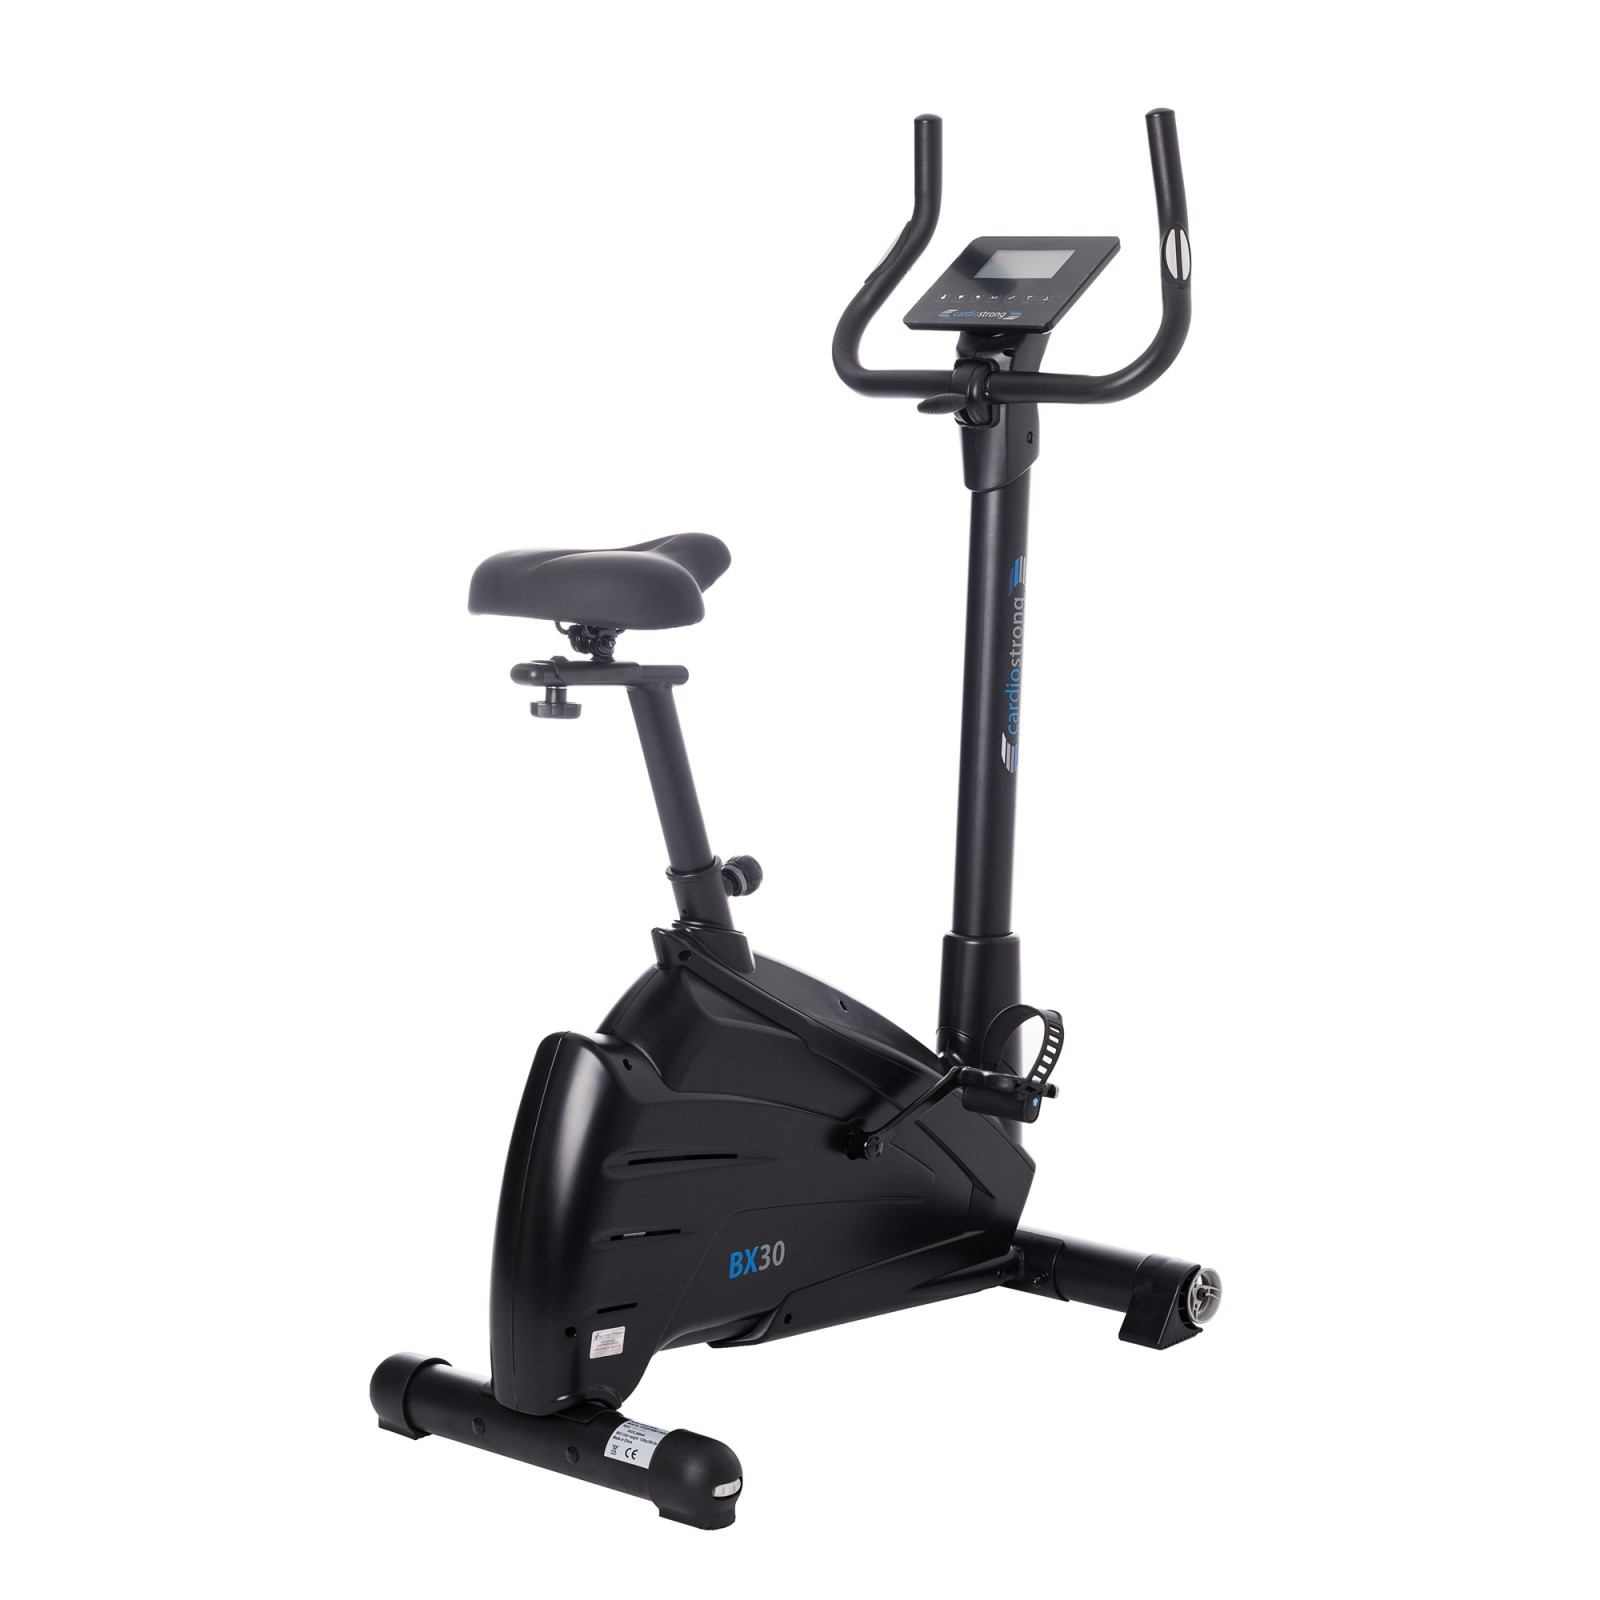gym_bike: (375, 84, 1229, 1536)
